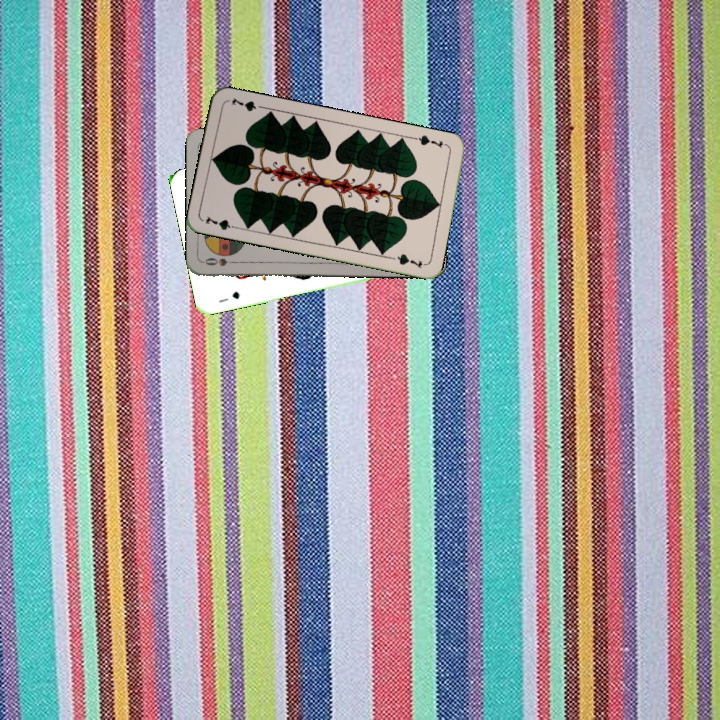G7: (201, 212, 241, 233), (410, 131, 450, 151)
GU: (215, 287, 242, 305)
SO: (201, 254, 241, 268)
